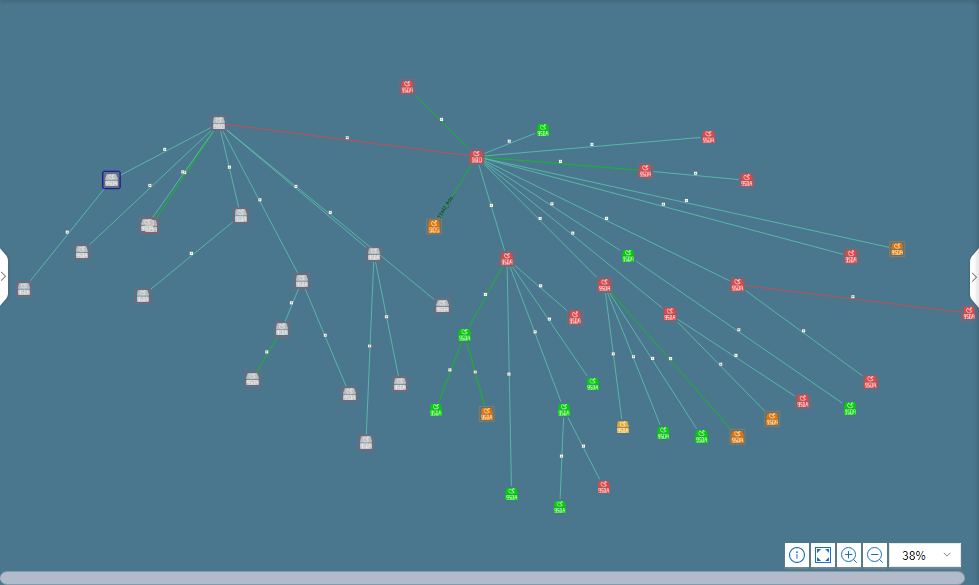ATN_Orange: (890, 240, 907, 256)
ATN_Red: (499, 253, 516, 270), (701, 130, 717, 147), (737, 173, 753, 190), (468, 149, 485, 164)
Link_Blue: (229, 133, 445, 309), (508, 161, 889, 257), (646, 239, 852, 404), (234, 153, 347, 386), (609, 289, 730, 429), (34, 204, 181, 288), (743, 289, 864, 380), (234, 153, 301, 276), (511, 271, 586, 380), (28, 185, 101, 280), (511, 279, 561, 404), (688, 331, 766, 407), (676, 320, 794, 369), (150, 219, 237, 283), (609, 312, 658, 419), (112, 153, 187, 222), (119, 124, 208, 173), (486, 167, 522, 288), (503, 136, 672, 159), (254, 283, 298, 371), (603, 296, 626, 423), (511, 265, 571, 312), (566, 418, 598, 478), (480, 182, 509, 248), (505, 323, 516, 487), (376, 285, 396, 371), (217, 130, 237, 208), (364, 280, 372, 409), (486, 130, 534, 150), (603, 259, 632, 283), (708, 173, 742, 184), (676, 320, 690, 331), (607, 240, 620, 247)
Link_Green: (222, 136, 298, 371), (609, 296, 727, 426), (150, 130, 213, 221), (254, 283, 307, 374), (413, 94, 473, 153), (468, 265, 500, 323), (437, 167, 470, 221), (437, 345, 457, 397), (468, 360, 482, 400), (569, 161, 632, 167)
Link_Red: (249, 124, 467, 159), (750, 283, 958, 319)
RTN_Green: (535, 124, 552, 141), (505, 485, 522, 501), (621, 247, 638, 262), (584, 381, 601, 392), (456, 332, 473, 343), (560, 406, 568, 416)
